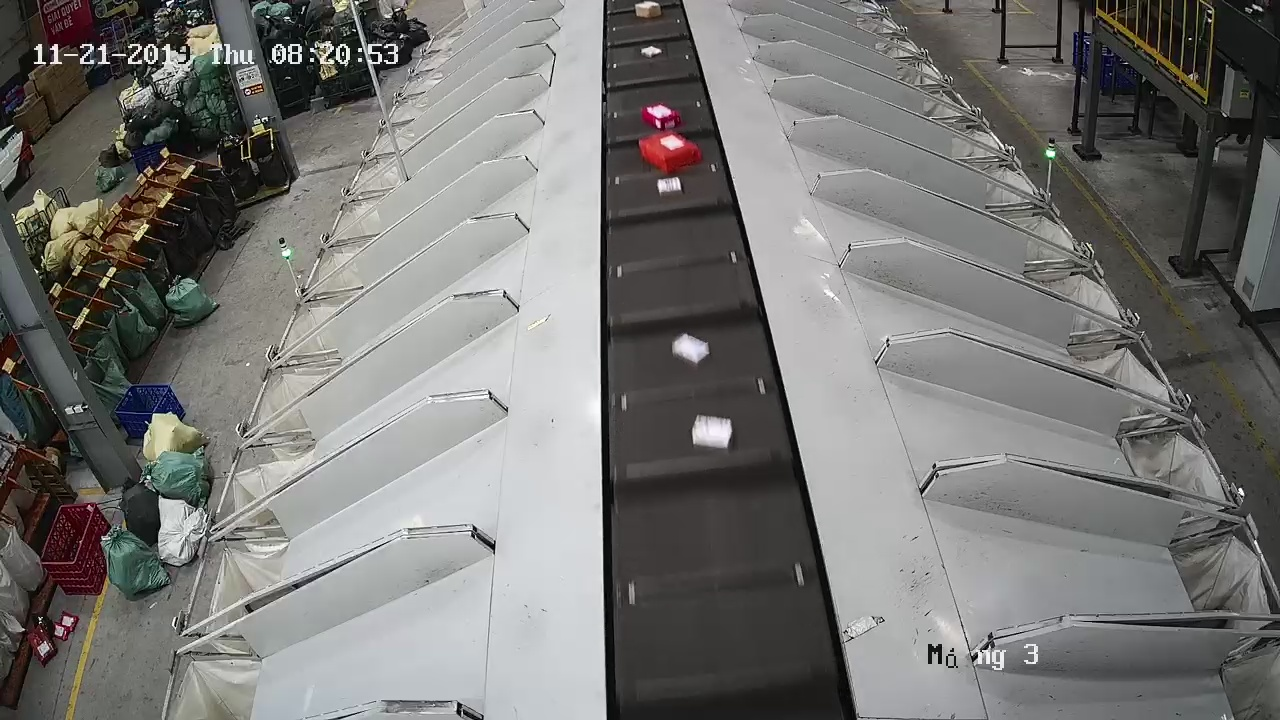parcel: (689, 412, 737, 457), (671, 331, 713, 369)
